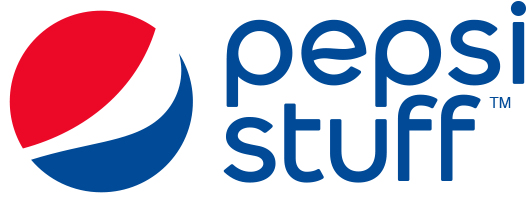pepsi: (10, 8, 193, 194), (10, 12, 197, 194), (10, 12, 193, 194)
